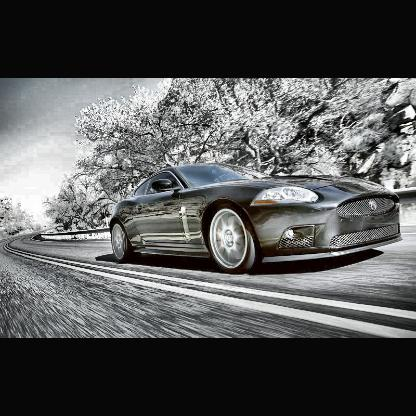Jaguar XK XKR 2012: (110, 166, 405, 276)
